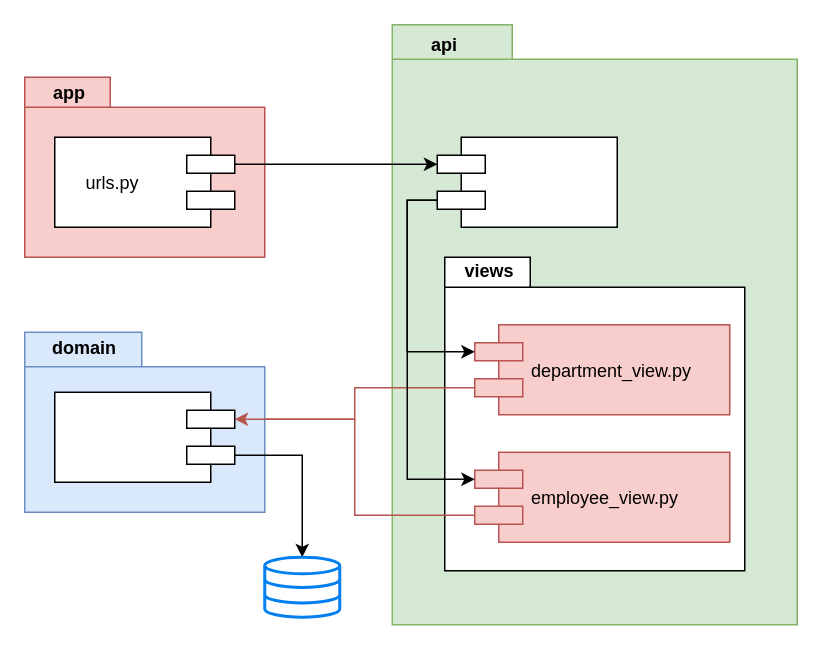
Some shapes in this 822 by 650 pixel diagram are drawn without their labels. Each missing label, with the box of its shape:
models.py: (53, 391, 235, 482)
urls: (436, 136, 617, 227)
